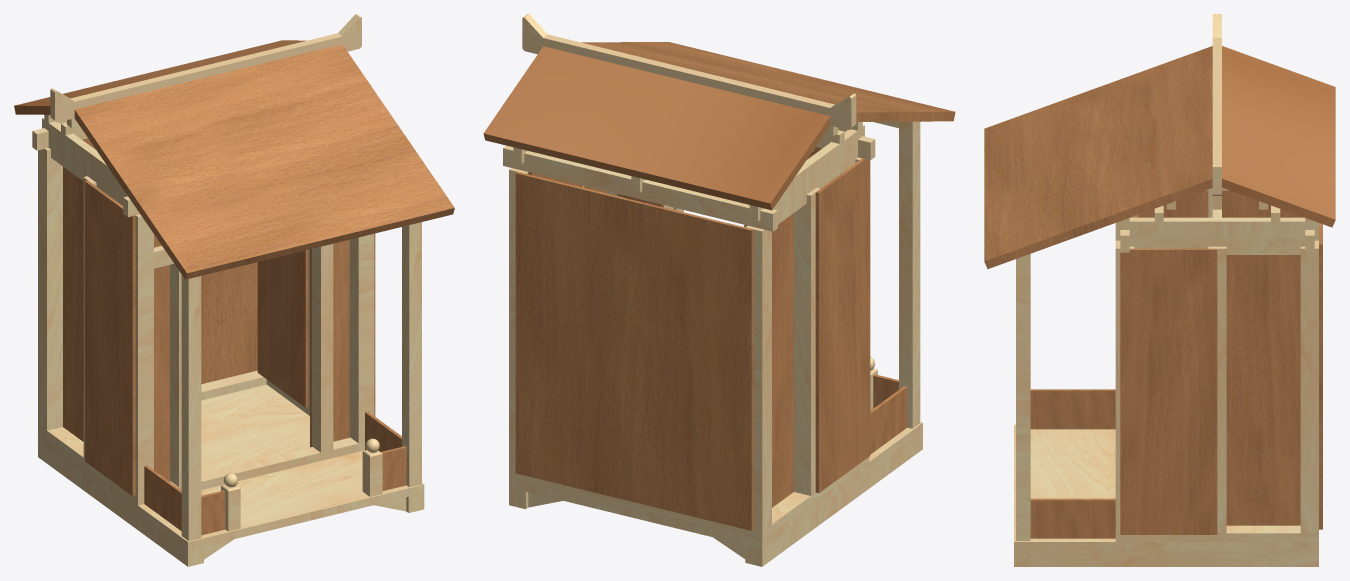
Rendered from 0207FOKAN_GLTF.glb.
The picture shows the model from 3 angles, left to right: view 1: azimuth 30°, elevation 25°; view 2: azimuth 150°, elevation 25°; view 3: azimuth 270°, elevation 25°; orthographic projection. The views are drawn at different scales.
Parts seen in each view (by area): view 1: 0207fokan_OBJ; view 2: 0207fokan_OBJ; view 3: 0207fokan_OBJ.
Part boxes in pixels (left/top/right/bottom): 0207fokan_OBJ: left=14, top=14, right=454, bottom=566; 0207fokan_OBJ: left=483, top=14, right=955, bottom=566; 0207fokan_OBJ: left=984, top=14, right=1335, bottom=566.
Size of the model in its own units: 195 by 250 by 190.
Materials: 3 (2 with a texture image).
